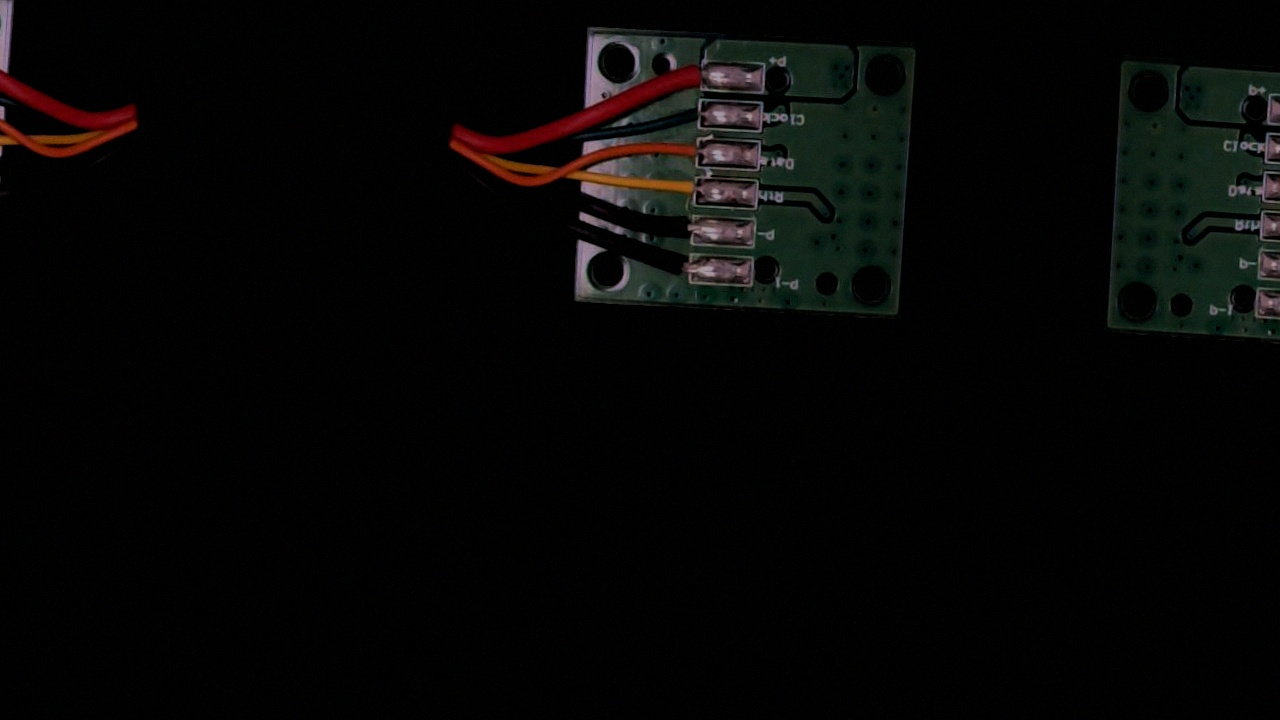Black: (635, 207, 712, 248)
Black1: (648, 249, 710, 285)
Green: (654, 94, 717, 135)
Orange: (653, 132, 715, 168)
Red: (656, 58, 719, 94)
Yellow: (650, 170, 712, 208)
